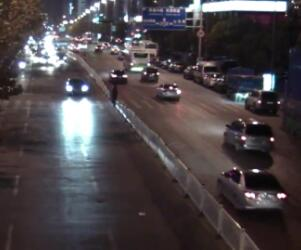bus: (120, 49, 150, 72), (132, 37, 158, 60), (123, 35, 134, 57)
car: (215, 166, 286, 218), (221, 116, 275, 159), (223, 65, 263, 98), (243, 89, 281, 113), (193, 59, 220, 84), (65, 75, 89, 96), (157, 81, 182, 101), (139, 66, 160, 82), (108, 67, 127, 84), (203, 70, 220, 87), (182, 64, 197, 79), (109, 43, 120, 55), (170, 60, 183, 70), (93, 42, 104, 53), (55, 51, 67, 61), (101, 39, 109, 50)
